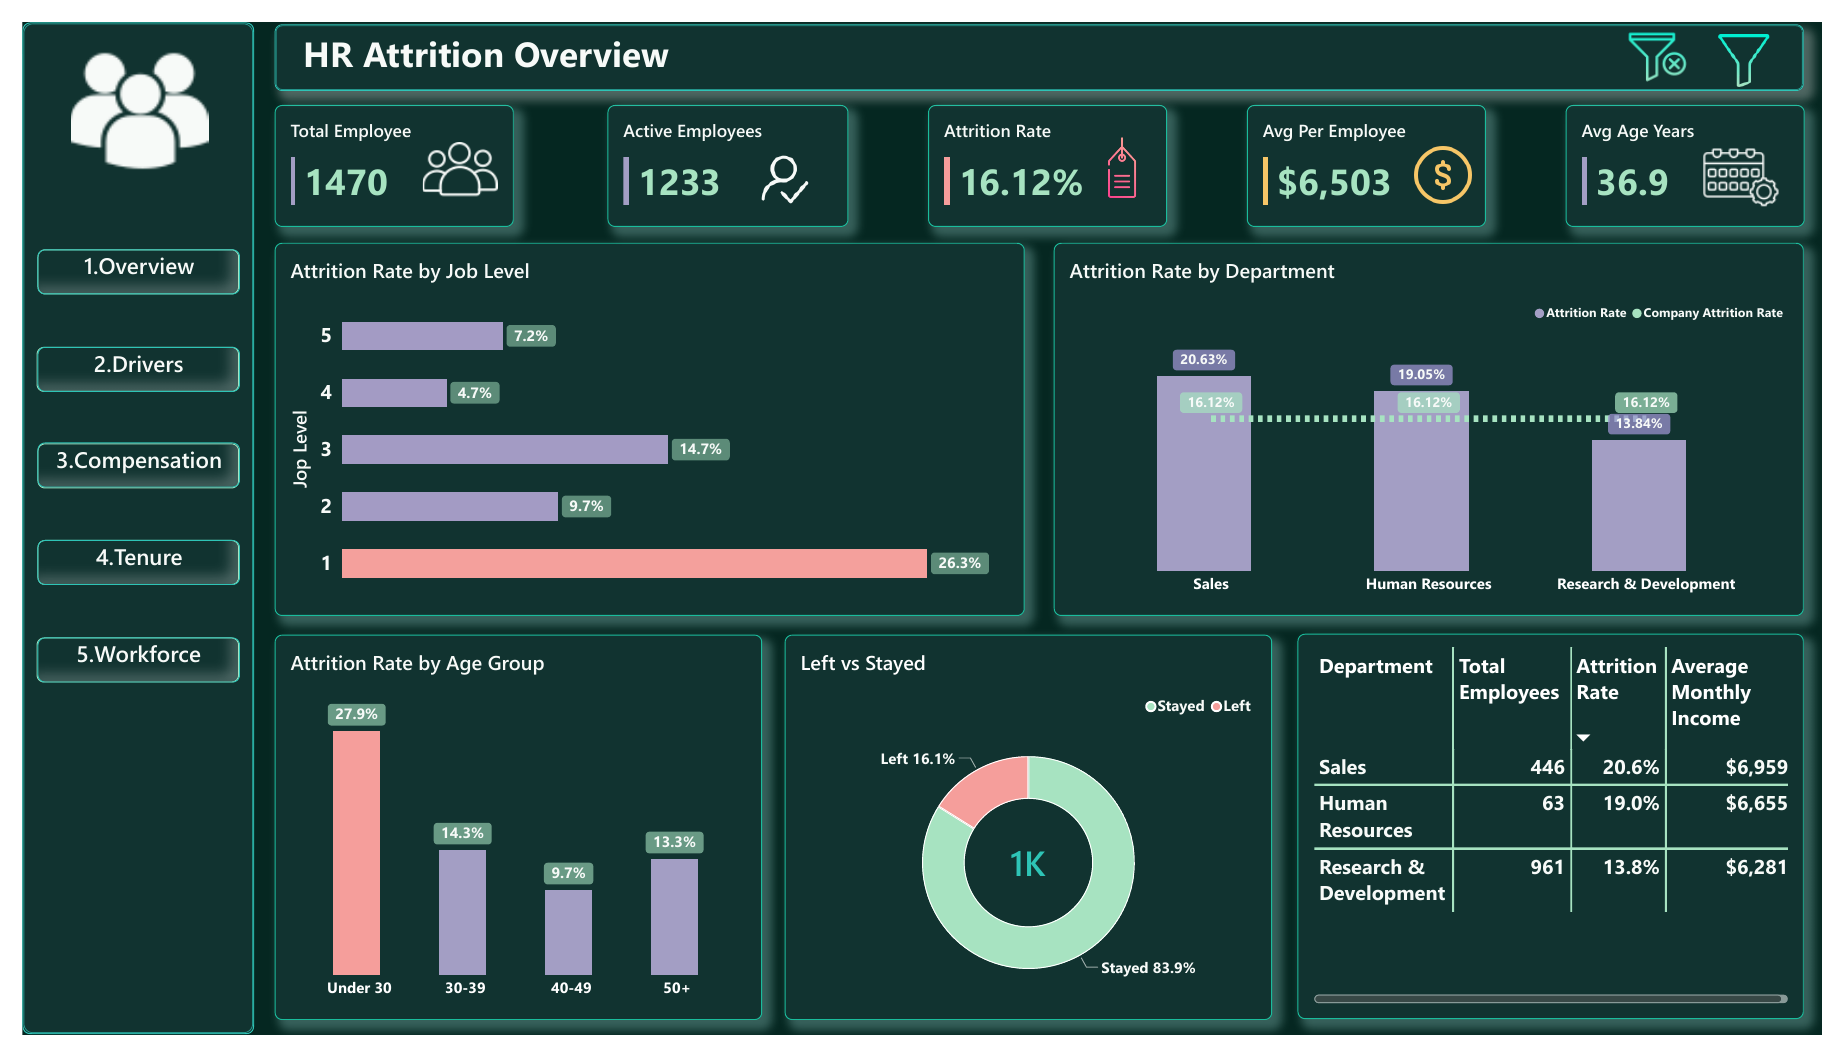

What the dashboard file says about the page in this screenshot:
{"tool":"powerbi","page":{"name":"Overview","canvas":[1920,1080],"ordinal":1},"visuals":[{"type":"barChart","title":"Attrition Rate by Job Level","fields":{"Category":["Dim_Job.job_level"],"Y":["Measures_HR.Attrition Rate"]},"box":[268.8,235.4,800,397.9],"z":0},{"type":"lineClusteredColumnComboChart","title":"Attrition Rate by Department","fields":{"Category":["Dim_Job.department"],"Y":["Measures_HR.Attrition Rate"],"Y2":["Measures_HR.Company Attrition Rate"]},"box":[1100,235.4,800,397.9],"z":1000},{"type":"donutChart","title":"Left vs Stayed ","fields":{"Category":["Fact_Employee.Attrition Status"],"Y":["Measures_HR.Total Employees"]},"box":[813.3,653.3,520,411.1],"z":2000},{"type":"clusteredColumnChart","fields":{"Category":["Fact_Employee.Age Group"],"Y":["Measures_HR.Attrition Rate"]},"box":[268.9,653.3,520,411.1],"z":3000},{"type":"tableEx","fields":{"Values":["Dim_Job.department","Measures_HR.Total Employees","Measures_HR.Attrition Rate","Measures_HR.Average Monthly Income"]},"box":[1360,652,540,411.1],"z":4000},{"type":"multiRowCard","title":"Avg Age Years","fields":{"Values":["Measures_HR.Average Age"]},"box":[1645.9,88,255,130],"z":5000},{"type":"multiRowCard","title":"Total Employee","fields":{"Values":["Measures_HR.Total Employees"]},"box":[268.7,88.4,255,130],"z":6000},{"type":"multiRowCard","title":"Avg Per Employee","fields":{"Values":["Measures_HR.Average Monthly Income"]},"box":[1305.8,88,255,130],"z":7000},{"type":"multiRowCard","title":"Attrition Rate ","fields":{"Values":["Measures_HR.Attrition Rate"]},"box":[965.8,88,255,130],"z":8000},{"type":"multiRowCard","title":"Active Employees","fields":{"Values":["Measures_HR.Active Employees"]},"box":[623.8,88,256.9,130],"z":9000},{"type":"shape","box":[0,0,246.6,1079.3],"z":10000},{"type":"image","box":[427.1,127.1,80,81],"z":12000},{"type":"image","box":[779.2,137.5,66.7,58.3],"z":13000},{"type":"image","box":[36.2,21.7,177.1,145.8],"z":14000},{"type":"image","box":[1480.3,130.3,68.8,64],"z":15000},{"type":"image","box":[1773.5,124.9,118.8,81.2],"z":16000},{"type":"shape","box":[268.8,2.1,1631.2,70.8],"z":17000},{"type":"textbox","box":[300,8.3,644.2,69.2],"z":18000},{"type":"image","box":[1693.8,1.8,100,70],"z":19000},{"type":"image","box":[1793.8,12.5,85.4,55],"z":20000},{"type":"shape","title":"4.Tenure","box":[15.6,552.2,215.5,48.3],"z":21000},{"type":"shape","title":"5.Workforce","box":[15.1,655.6,215.5,48.3],"z":22000},{"type":"shape","title":"3.Compensation ","box":[15.6,448.9,215.5,48.3],"z":23000},{"type":"shape","title":"2.Drivers","box":[15.1,345.6,215.5,48.3],"z":24000},{"type":"shape","title":"1.Overview","box":[15.6,242.2,215.5,48.3],"z":25000},{"type":"actionButton","box":[16,242,216,48],"z":26000},{"type":"actionButton","box":[16,346,216,48],"z":27000},{"type":"actionButton","box":[16,448,216,48],"z":28000},{"type":"actionButton","box":[16,552,216,48],"z":29000},{"type":"actionButton","box":[16,656,216,48],"z":30000},{"type":"image","box":[1138,120,70,70],"z":31000}]}

Visuals, with their boxes in screenshot pixels (x1, y1, x2, y2), scaled from the page's 1920x1080 canvas onto the 1845x1058 screenshot:
"Attrition Rate by Job Level" barChart: pyautogui.locateOnScreen(258, 231, 1027, 620)
"Attrition Rate by Department" lineClusteredColumnComboChart: pyautogui.locateOnScreen(1057, 231, 1826, 620)
"Left vs Stayed " donutChart: pyautogui.locateOnScreen(782, 640, 1281, 1043)
clusteredColumnChart - Fact_Employee.Age Group x Measures_HR.Attrition Rate: pyautogui.locateOnScreen(258, 640, 758, 1043)
tableEx - Dim_Job.department x Measures_HR.Total Employees: pyautogui.locateOnScreen(1307, 639, 1826, 1041)
"Avg Age Years" multiRowCard: pyautogui.locateOnScreen(1582, 86, 1827, 214)
"Total Employee" multiRowCard: pyautogui.locateOnScreen(258, 87, 503, 214)
"Avg Per Employee" multiRowCard: pyautogui.locateOnScreen(1255, 86, 1500, 214)
"Attrition Rate " multiRowCard: pyautogui.locateOnScreen(928, 86, 1173, 214)
"Active Employees" multiRowCard: pyautogui.locateOnScreen(599, 86, 846, 214)
shape: pyautogui.locateOnScreen(0, 0, 237, 1057)
image: pyautogui.locateOnScreen(410, 125, 487, 204)
image: pyautogui.locateOnScreen(749, 135, 813, 192)
image: pyautogui.locateOnScreen(35, 21, 205, 164)
image: pyautogui.locateOnScreen(1422, 128, 1489, 190)
image: pyautogui.locateOnScreen(1704, 122, 1818, 202)
shape: pyautogui.locateOnScreen(258, 2, 1826, 71)
textbox: pyautogui.locateOnScreen(288, 8, 907, 76)
image: pyautogui.locateOnScreen(1628, 2, 1724, 70)
image: pyautogui.locateOnScreen(1724, 12, 1806, 66)
"4.Tenure" shape: pyautogui.locateOnScreen(15, 541, 222, 588)
"5.Workforce" shape: pyautogui.locateOnScreen(15, 642, 222, 690)
"3.Compensation " shape: pyautogui.locateOnScreen(15, 440, 222, 487)
"2.Drivers" shape: pyautogui.locateOnScreen(15, 339, 222, 386)
"1.Overview" shape: pyautogui.locateOnScreen(15, 237, 222, 285)
actionButton: pyautogui.locateOnScreen(15, 237, 223, 284)
actionButton: pyautogui.locateOnScreen(15, 339, 223, 386)
actionButton: pyautogui.locateOnScreen(15, 439, 223, 486)
actionButton: pyautogui.locateOnScreen(15, 541, 223, 588)
actionButton: pyautogui.locateOnScreen(15, 643, 223, 690)
image: pyautogui.locateOnScreen(1094, 118, 1161, 186)
